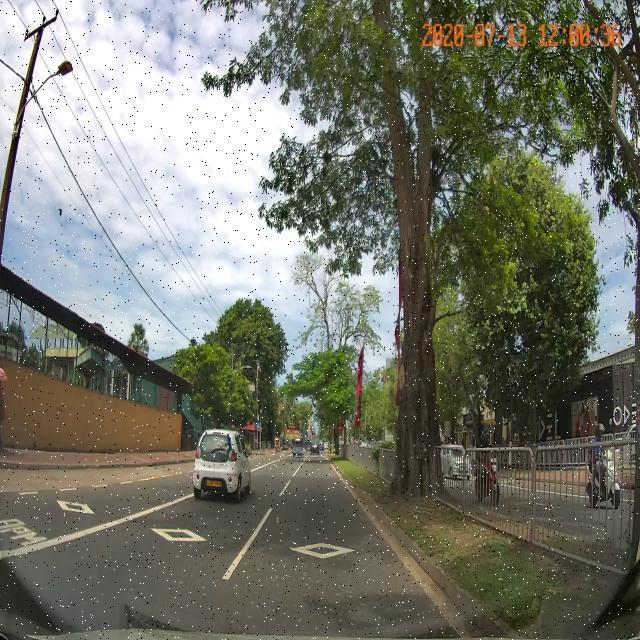diamond: (234, 540, 411, 568)
